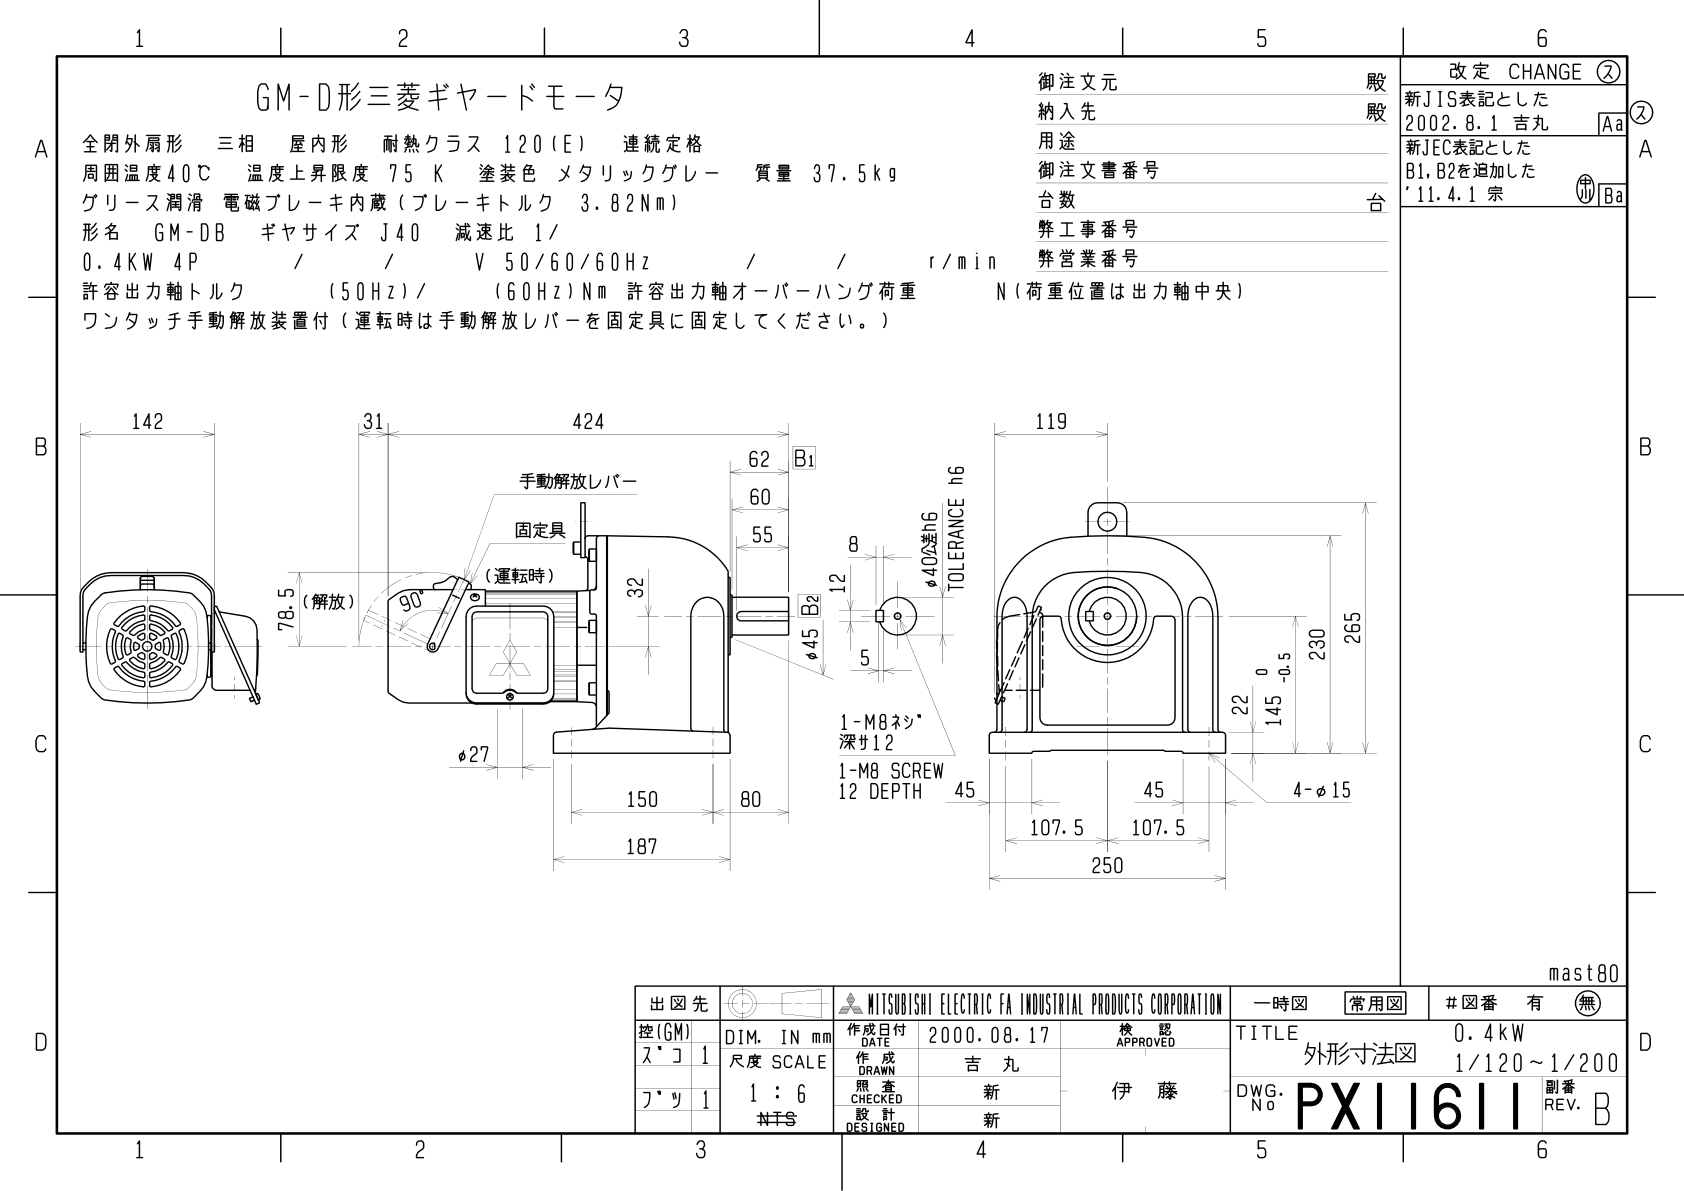GM_D_手動解放ブレーキ＿三相_脚: (6, 15, 1684, 1191)
